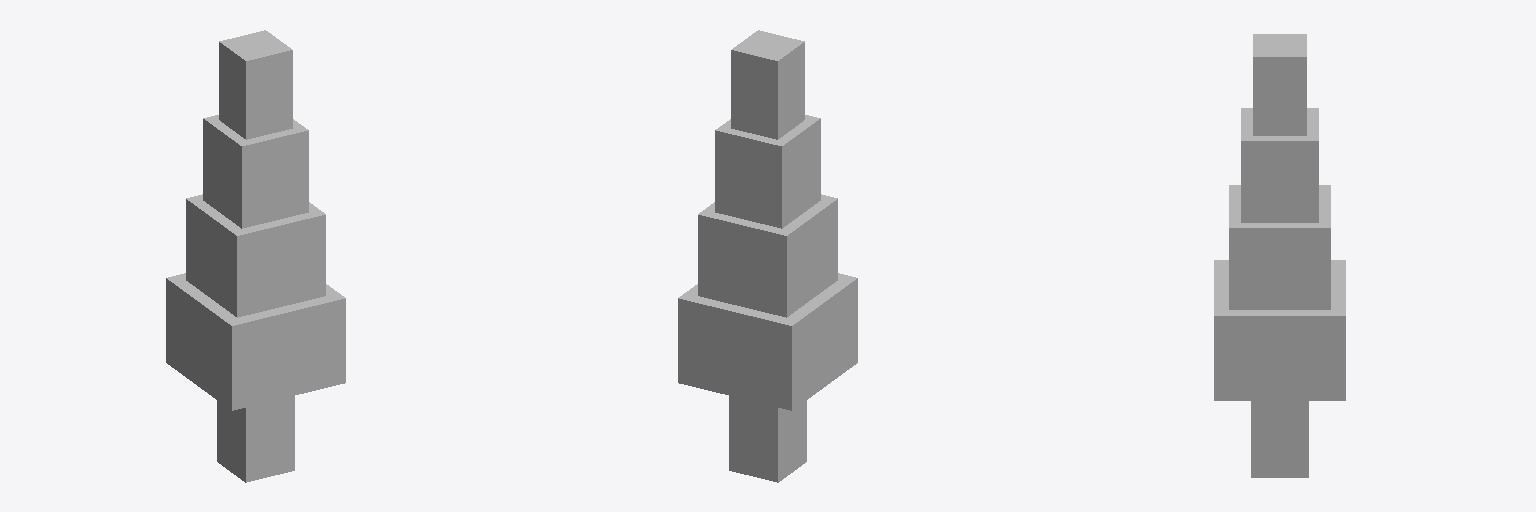
File: BetterTree.obj
3 views of the same model, side by side, from view 1: azimuth 30°, elevation 25°; view 2: azimuth 150°, elevation 25°; view 3: azimuth 270°, elevation 25° (orthographic).
Parts seen in each view (by area): view 1: Cube_Cube.001; view 2: Cube_Cube.001; view 3: Cube_Cube.001.
Part boxes in pixels (x1,y1,x2,y2): Cube_Cube.001: (166, 30, 345, 482); Cube_Cube.001: (678, 30, 857, 482); Cube_Cube.001: (1214, 34, 1345, 477).
Size of the model in its own units: 0.5052 by 1.78 by 0.5052.